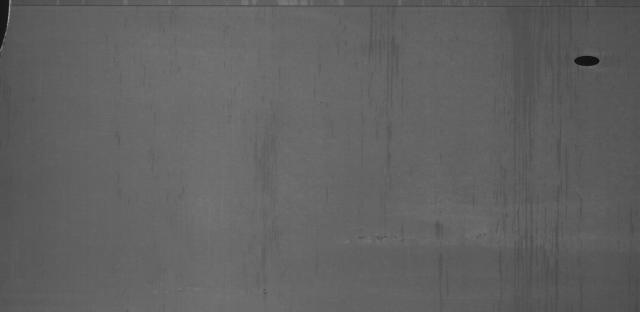crescent_gap: (0, 1, 12, 59)
punching_hole: (571, 50, 606, 71)
water_spot: (498, 9, 566, 290)
welding_line: (11, 1, 640, 12)
